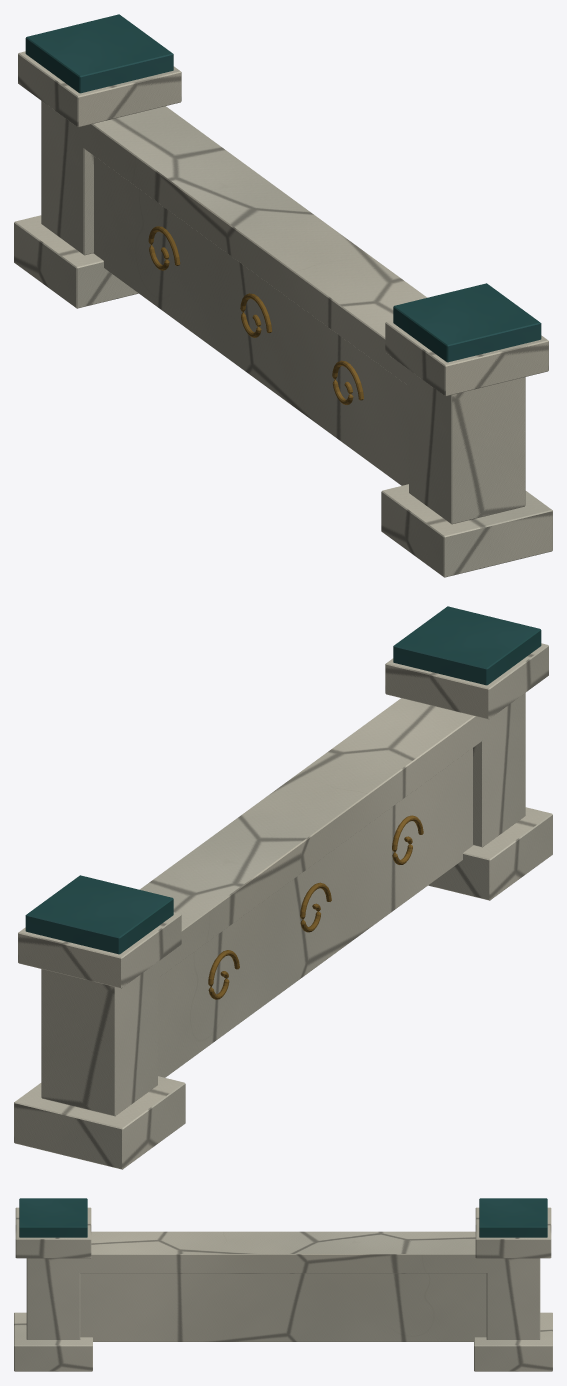
The model's file is t06_rail_straight.fbx.
The picture shows the model from 3 angles, top to bottom: view 1: azimuth 30°, elevation 25°; view 2: azimuth 150°, elevation 25°; view 3: azimuth 270°, elevation 25°; orthographic projection. The views are drawn at different scales.
Parts seen in each view (by area): view 1: t06_rail_straight.004; view 2: t06_rail_straight.004; view 3: t06_rail_straight.004.
Part boxes in pixels (x1,y1,x2,y2): t06_rail_straight.004: (14, 14, 552, 577); t06_rail_straight.004: (14, 606, 552, 1169); t06_rail_straight.004: (14, 1198, 552, 1371).
Size of the model in its own units: 30000 by 4400 by 8750.
